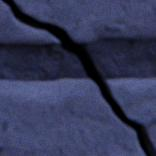broken_brick: (0, 77, 145, 155), (14, 0, 155, 42), (105, 77, 155, 151), (0, 0, 58, 43)
crack: (1, 0, 155, 155)
